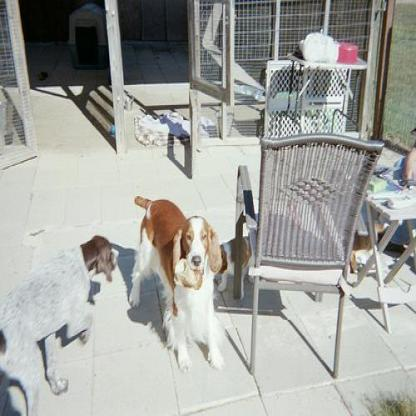Welsh_springer_spaniel: (126, 186, 223, 371)
